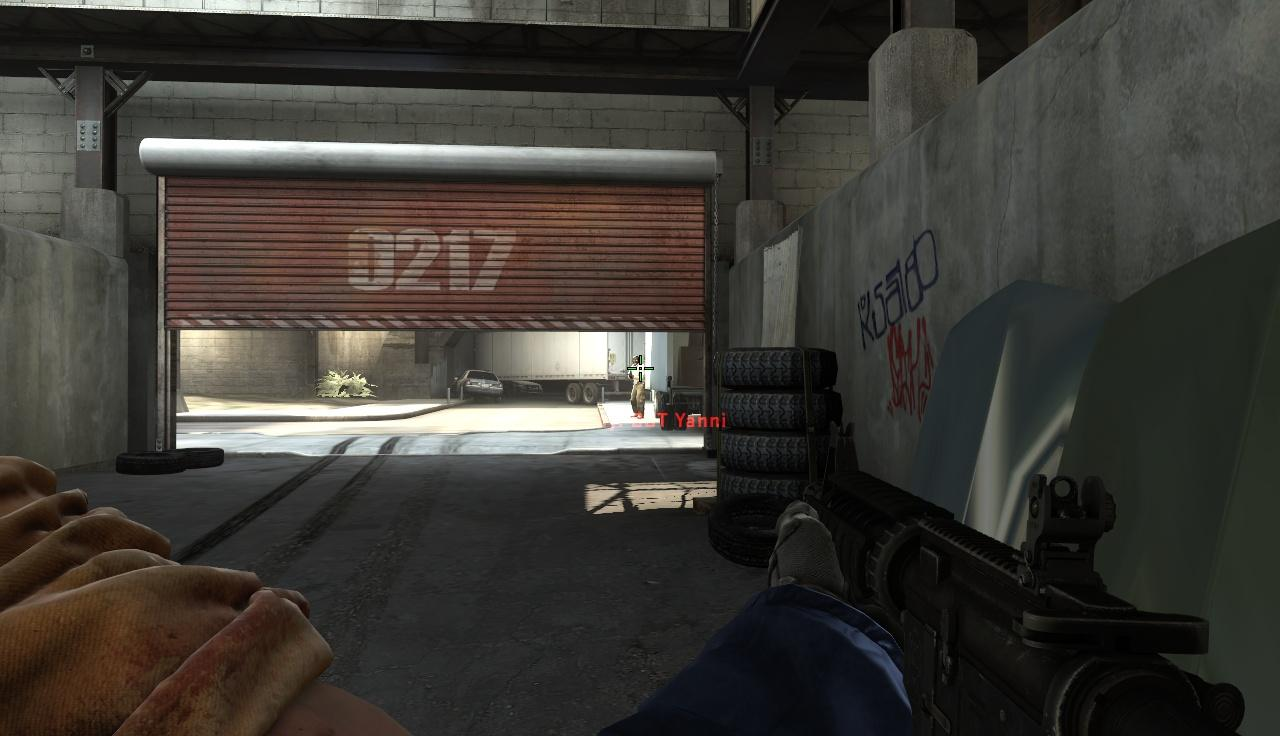rifle: (785, 417, 1280, 731)
tt: (627, 355, 647, 420)
tthead: (632, 355, 640, 365)
